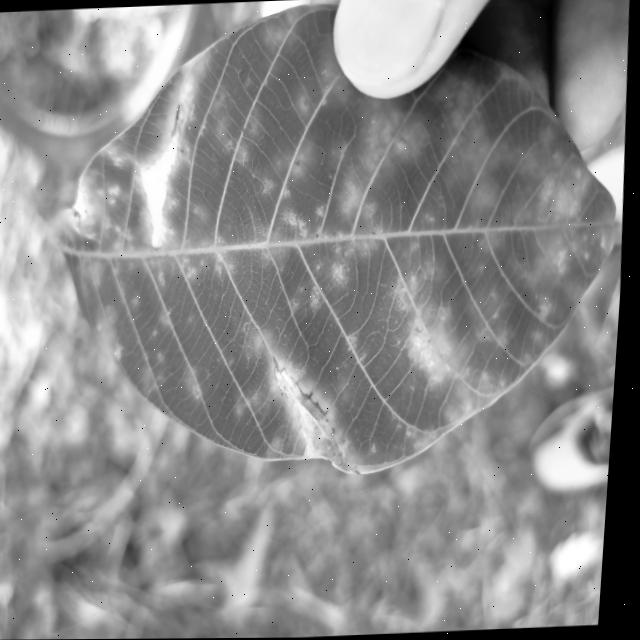Leaf-Blight: (273, 363, 369, 477), (137, 106, 192, 247), (65, 181, 98, 230)
